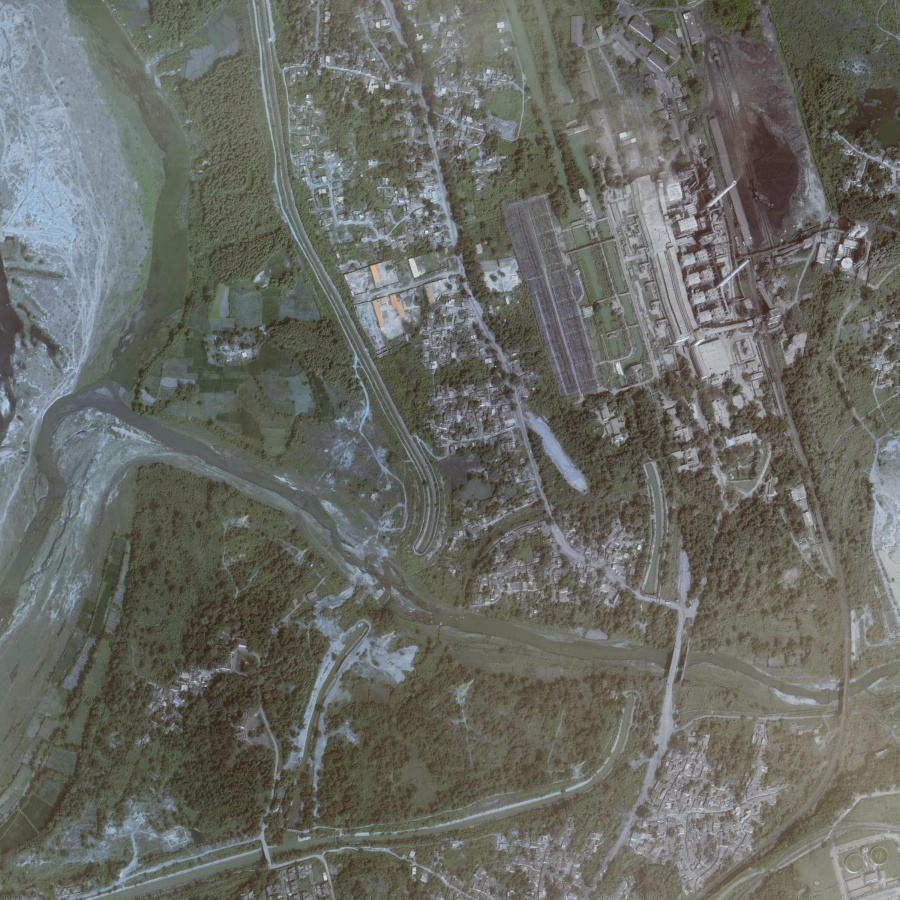PowerPlant: (612, 25, 809, 322)
